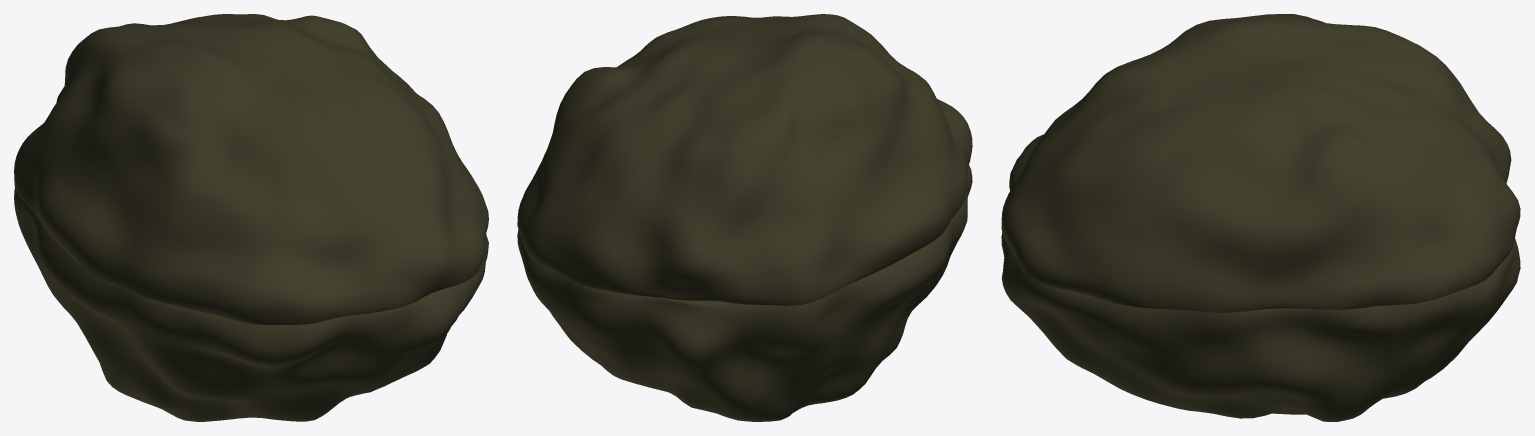
File: Nuez.fbx
The picture shows the model from 3 angles, left to right: view 1: azimuth 30°, elevation 25°; view 2: azimuth 150°, elevation 25°; view 3: azimuth 270°, elevation 25°; orthographic projection. The views are drawn at different scales.
Parts seen in each view (by area): view 1: NUT_B, NUT_A; view 2: NUT_B, NUT_A; view 3: NUT_B, NUT_A.
Part boxes in pixels (bbox=[...]): NUT_B: bbox=[14, 14, 488, 324]; NUT_A: bbox=[14, 188, 488, 421]; NUT_B: bbox=[517, 14, 972, 305]; NUT_A: bbox=[517, 165, 972, 421]; NUT_B: bbox=[1001, 14, 1520, 312]; NUT_A: bbox=[1001, 233, 1520, 421].
Bounding box in the file's own units: 0.3046 × 0.2853 × 0.3781.
